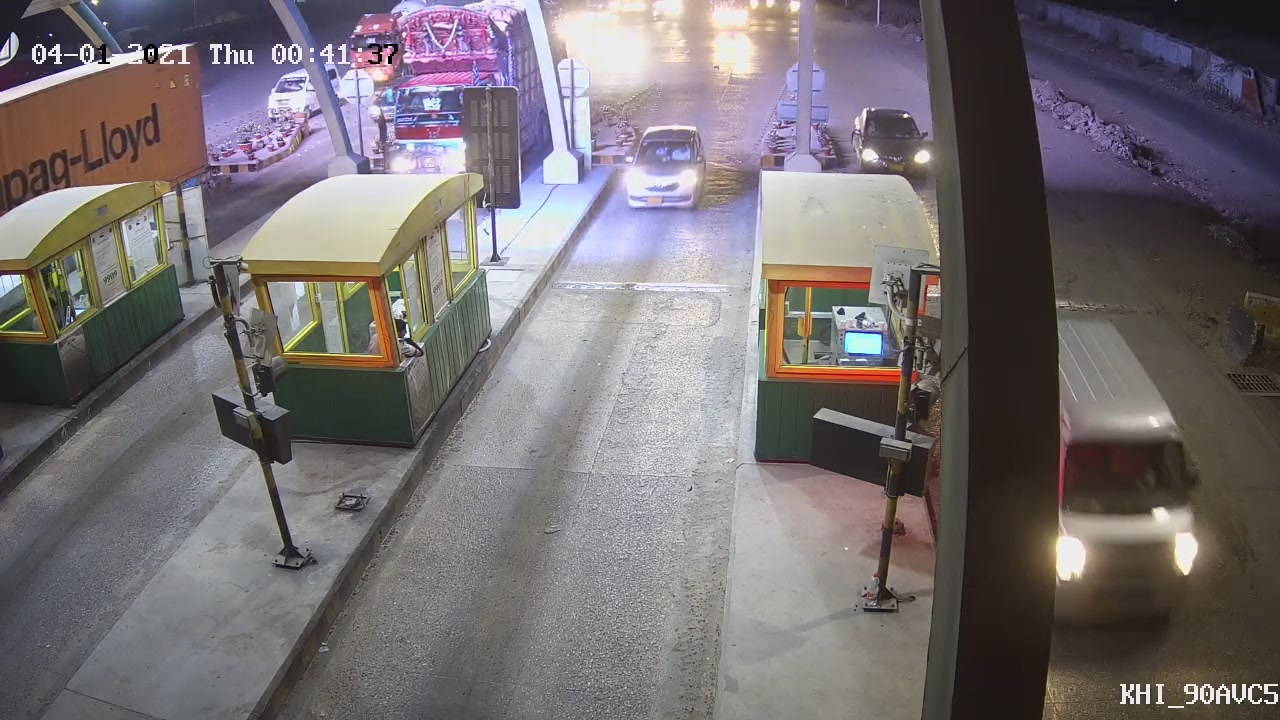F1: (612, 122, 714, 225)
